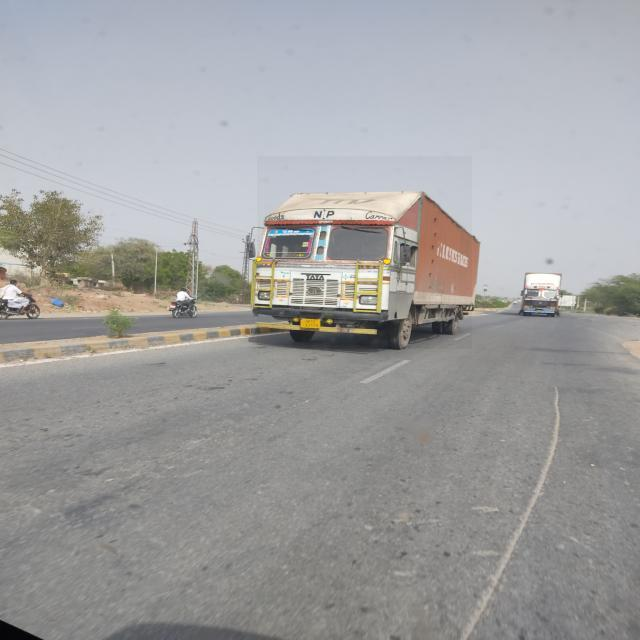Truck: (257, 156, 472, 349)
